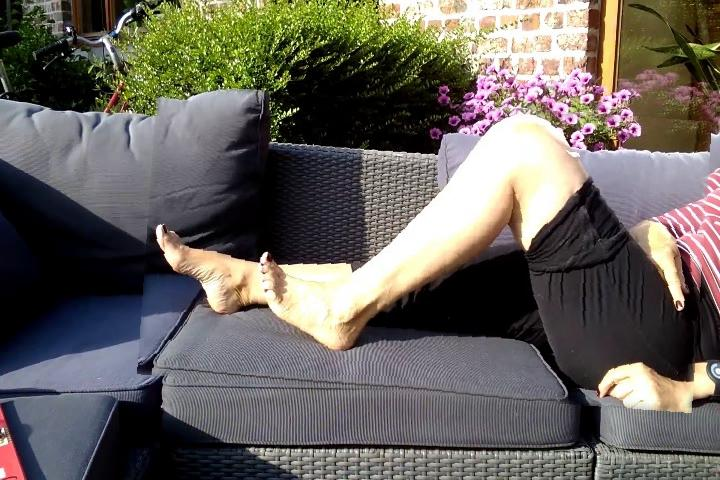lowerbody: (143, 94, 709, 404)
